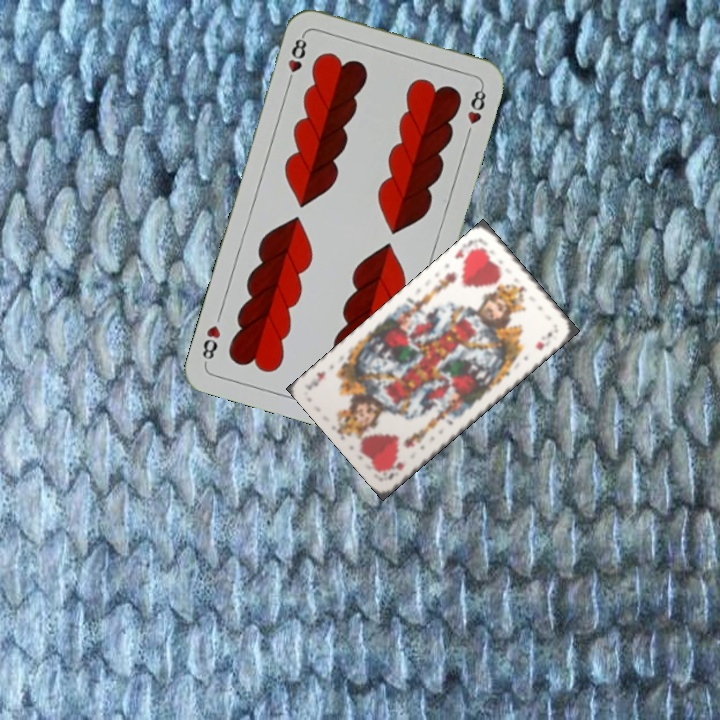H8: (283, 30, 310, 88)
HK: (451, 235, 484, 265), (381, 457, 407, 482)
